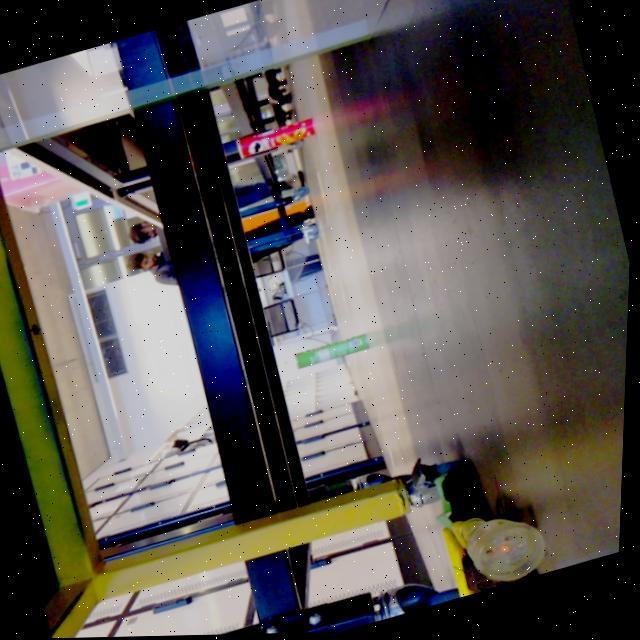greenpringles: (284, 329, 381, 382)
redpringles: (224, 111, 332, 169)
